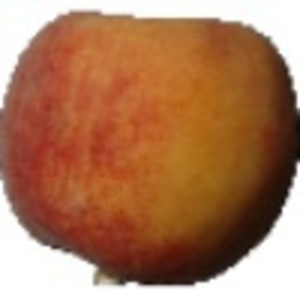pêssego: (1, 9, 300, 288)
